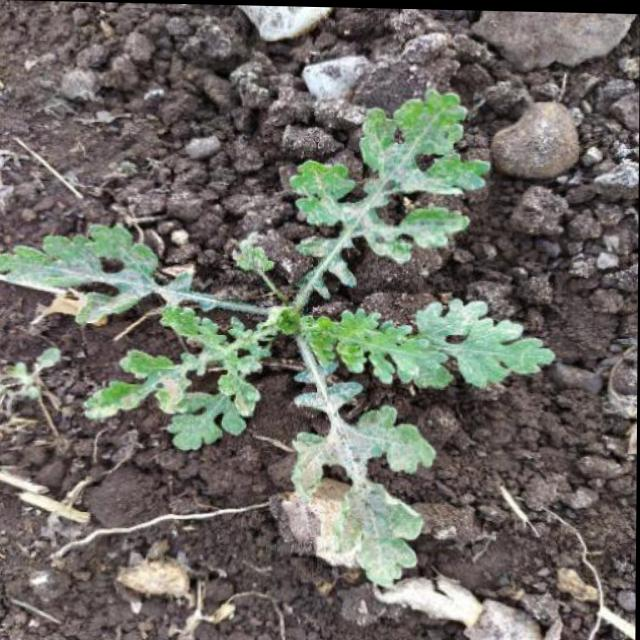weed: (2, 76, 566, 585)
